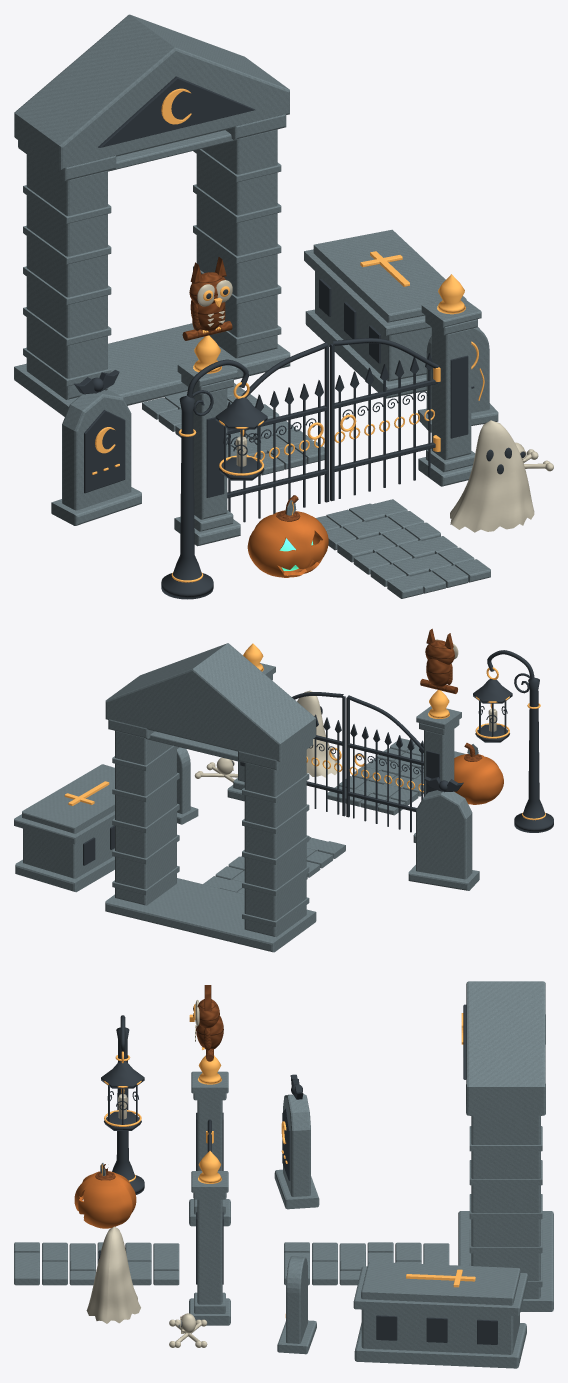
The model's file is hollowwick-halloween-hollowwick-moon-cemetery-e6eaeb07__21658.glb.
The picture shows the model from 3 angles, top to bottom: view 1: azimuth 30°, elevation 25°; view 2: azimuth 150°, elevation 25°; view 3: azimuth 270°, elevation 25°; orthographic projection. The views are drawn at different scales.
Parts seen in each view (by area): view 1: 001-open-mausoleum-portal/0, 006-gothic-sarcophagus/0, 000-hinged-moon-gate/0, 003-cobbled-path-tile/0, 007-crooked-lantern-post/0, 004-raven-crested-headstone/0, 008-wandering-sheet-ghost/0, 000-hinged-moon-gate/right-gate-leaf-iron, 000-hinged-moon-gate/left-gate-leaf-iron, 002-cobbled-path-tile/0, 001-open-mausoleum-portal/1, 010-carved-grin-pumpkin/0 (+6 smaller); view 2: 001-open-mausoleum-portal/0, 006-gothic-sarcophagus/0, 004-raven-crested-headstone/0, 007-crooked-lantern-post/0, 000-hinged-moon-gate/left-gate-leaf-iron, 003-cobbled-path-tile/0, 000-hinged-moon-gate/0, 010-carved-grin-pumpkin/0, 002-cobbled-path-tile/0, 000-hinged-moon-gate/right-gate-leaf-iron, 009-perched-horned-owl/0, 008-wandering-sheet-ghost/0 (+5 smaller); view 3: 001-open-mausoleum-portal/0, 006-gothic-sarcophagus/0, 000-hinged-moon-gate/0, 003-cobbled-path-tile/0, 002-cobbled-path-tile/0, 008-wandering-sheet-ghost/0, 004-raven-crested-headstone/0, 007-crooked-lantern-post/0, 010-carved-grin-pumpkin/0, 005-round-arch-headstone/0, 006-gothic-sarcophagus/1, 009-perched-horned-owl/0 (+4 smaller).
Boxes of the visible parts, <box> form: 001-open-mausoleum-portal/0: <box>14,14,290,416</box>; 006-gothic-sarcophagus/0: <box>304,229,466,398</box>; 000-hinged-moon-gate/0: <box>174,297,481,546</box>; 003-cobbled-path-tile/0: <box>316,499,490,598</box>; 007-crooked-lantern-post/0: <box>161,359,267,599</box>; 004-raven-crested-headstone/0: <box>51,390,141,525</box>; 008-wandering-sheet-ghost/0: <box>450,420,534,532</box>; 000-hinged-moon-gate/right-gate-leaf-iron: <box>330,338,438,501</box>; 000-hinged-moon-gate/left-gate-leaf-iron: <box>227,342,329,522</box>; 002-cobbled-path-tile/0: <box>142,383,324,475</box>; 001-open-mausoleum-portal/1: <box>98,76,254,147</box>; 010-carved-grin-pumpkin/0: <box>247,511,328,577</box>; 001-open-mausoleum-portal/0: <box>105,643,316,952</box>; 006-gothic-sarcophagus/0: <box>14,764,114,892</box>; 004-raven-crested-headstone/0: <box>408,790,479,890</box>; 007-crooked-lantern-post/0: <box>473,650,553,832</box>; 000-hinged-moon-gate/left-gate-leaf-iron: <box>346,695,423,832</box>; 003-cobbled-path-tile/0: <box>327,738,465,815</box>; 000-hinged-moon-gate/0: <box>227,663,461,842</box>; 010-carved-grin-pumpkin/0: <box>454,754,503,804</box>; 002-cobbled-path-tile/0: <box>203,836,345,894</box>; 000-hinged-moon-gate/right-gate-leaf-iron: <box>292,692,345,816</box>; 009-perched-horned-owl/0: <box>420,628,457,693</box>; 008-wandering-sheet-ghost/0: <box>297,690,339,777</box>; 001-open-mausoleum-portal/0: <box>458,981,553,1311</box>; 006-gothic-sarcophagus/0: <box>353,1261,527,1368</box>; 000-hinged-moon-gate/0: <box>189,1071,230,1325</box>; 003-cobbled-path-tile/0: <box>14,1242,179,1285</box>; 002-cobbled-path-tile/0: <box>284,1242,449,1285</box>; 008-wandering-sheet-ghost/0: <box>86,1226,140,1323</box>; 004-raven-crested-headstone/0: <box>274,1094,319,1209</box>; 007-crooked-lantern-post/0: <box>101,1015,144,1194</box>; 010-carved-grin-pumpkin/0: <box>74,1171,136,1228</box>; 005-round-arch-headstone/0: <box>277,1256,316,1354</box>; 006-gothic-sarcophagus/1: <box>376,1315,497,1344</box>; 009-perched-horned-owl/0: <box>196,985,223,1061</box>.
Size of the model in its own units: 5.2 by 3.62 by 6.2.
Materials: 7 (4 with a texture image).
